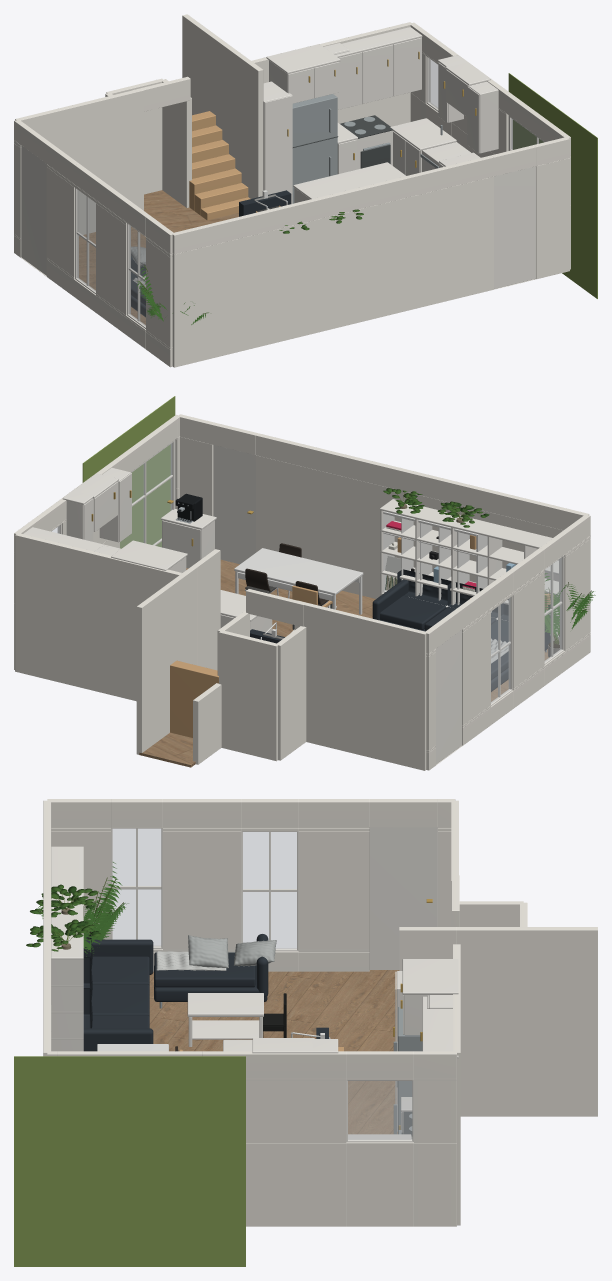
3 views of the same model, one above another, from view 1: azimuth 30°, elevation 25°; view 2: azimuth 150°, elevation 25°; view 3: azimuth 270°, elevation 25° (orthographic). The views are drawn at different scales.
Visible parts, largest first — view 1: wall_8_segment.006, wall_11_segment, wall_8_segment.007, inferred_outdoor_brightness, wall_3_segment, door_panel.002, wall_8_segment.001, home-downstairs__refrigerator_24__body, wall_2_segment, door_panel, wall_0_segment.015, wall_5_segment (+52 smaller); view 2: wall_1_segment, wall_11_segment, wall_8_segment.006, wall_3_segment, wall_8_segment.007, wall_4_segment, inferred_outdoor_brightness, door_panel.002, wall_9_segment, wall_0_segment.015, measured_floor_polygon, observed_glazed_patio_panel (+45 smaller); view 3: inferred_outdoor_brightness, wall_3_segment, measured_floor_polygon, wall_0_segment.015, wall_0_segment.027, wall_7_segment.007, door_panel, wall_7_segment.008, wall_7_segment.004, glass.001, glass, glass.002 (+39 smaller).
Boxes of the visible parts, x1,y1,x2,y2 form: wall_8_segment.006: (172, 176, 493, 367); wall_11_segment: (15, 88, 143, 234); wall_8_segment.007: (172, 155, 493, 254); inferred_outdoor_brightness: (508, 73, 597, 298); wall_3_segment: (182, 14, 240, 168); door_panel.002: (494, 166, 535, 288); wall_8_segment.001: (536, 158, 569, 278); home-downstairs__refrigerator_24__body: (292, 94, 337, 203); wall_2_segment: (236, 54, 263, 198); door_panel: (21, 145, 46, 275); wall_0_segment.015: (96, 203, 130, 315); wall_5_segment: (161, 79, 191, 207); wall_1_segment: (15, 533, 181, 701); wall_11_segment: (294, 600, 426, 770); wall_8_segment.006: (256, 455, 562, 640); wall_3_segment: (136, 565, 197, 754); wall_8_segment.007: (256, 433, 589, 530); wall_4_segment: (219, 630, 278, 761); inferred_outdoor_brightness: (82, 396, 175, 548); door_panel.002: (213, 445, 255, 564); wall_9_segment: (276, 626, 306, 760); wall_0_segment.015: (508, 572, 544, 688); measured_floor_polygon: (139, 559, 548, 767); observed_glazed_patio_panel: (120, 443, 172, 548); inferred_outdoor_brightness: (14, 1056, 245, 1266); wall_3_segment: (457, 927, 597, 1116); measured_floor_polygon: (149, 970, 399, 1134); wall_0_segment.015: (163, 831, 241, 949); wall_0_segment.027: (298, 831, 369, 949); wall_7_segment.007: (246, 1143, 346, 1226); door_panel: (369, 827, 437, 969); wall_7_segment.008: (246, 1080, 346, 1142); wall_7_segment.004: (346, 1142, 413, 1226); glass.001: (243, 832, 296, 948); glass: (113, 829, 160, 946); glass.002: (348, 1081, 411, 1139).
Bounding box in the file's own units: 8.43 × 3.11 × 7.55.
Materials: 43 (1 with a texture image).
